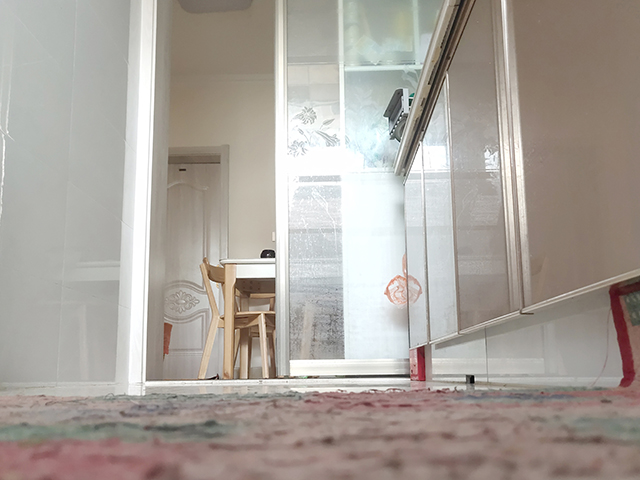cabinet: (390, 1, 640, 390)
carpet: (2, 380, 583, 480)
stool: (196, 254, 277, 381)
table: (217, 256, 277, 381)
